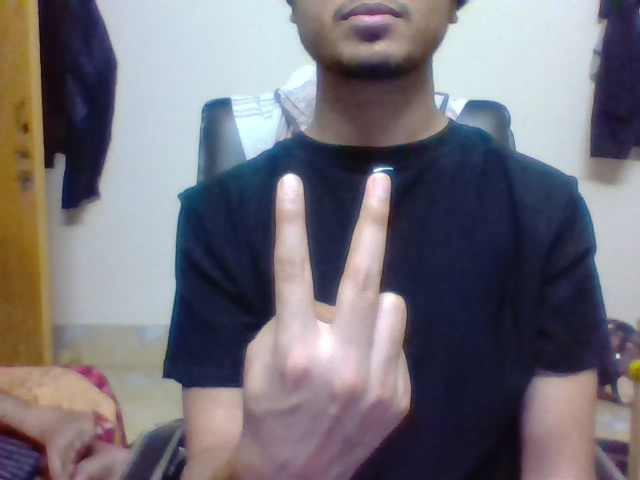V: (268, 164, 397, 316)
